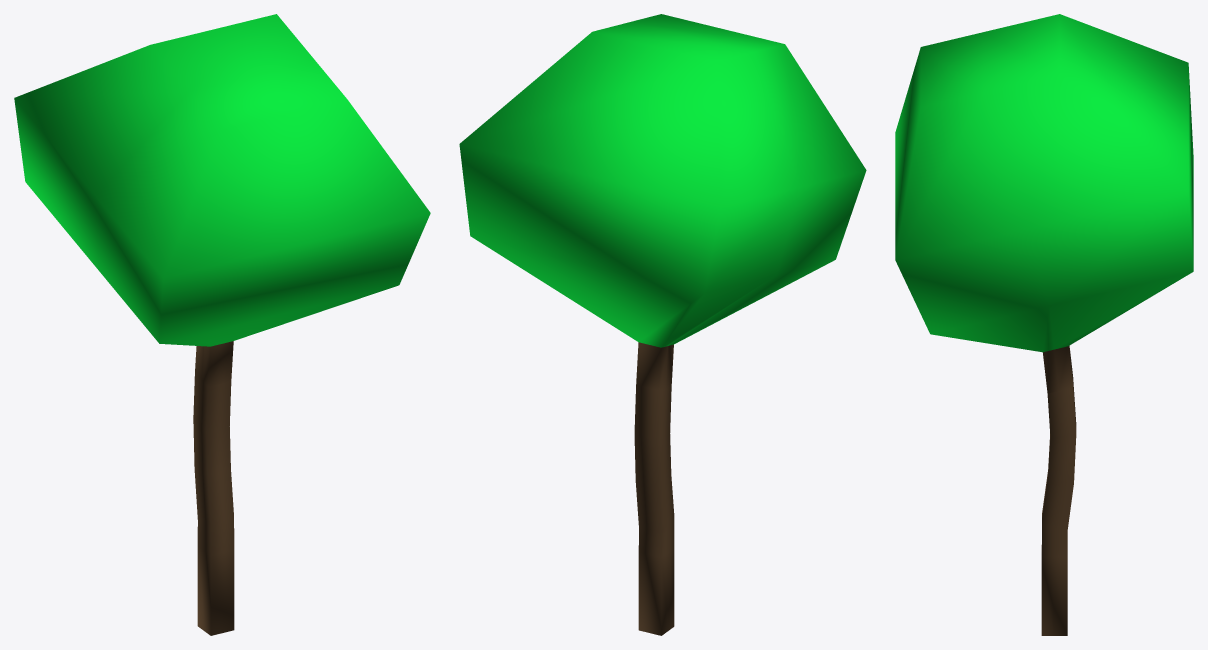
File: _OD_Tree2.fbx
3 views of the same model, side by side, from view 1: azimuth 30°, elevation 25°; view 2: azimuth 150°, elevation 25°; view 3: azimuth 270°, elevation 25° (orthographic). The views are drawn at different scales.
Parts seen in each view (by area): view 1: Cube.053; view 2: Cube.053; view 3: Cube.053.
Boxes of the visible parts, x1=… form: Cube.053: x1=14, y1=14, x2=430, y2=635; Cube.053: x1=459, y1=14, x2=866, y2=635; Cube.053: x1=895, y1=14, x2=1193, y2=635.
Bounding box in the file's own units: 230 × 492 × 227.
